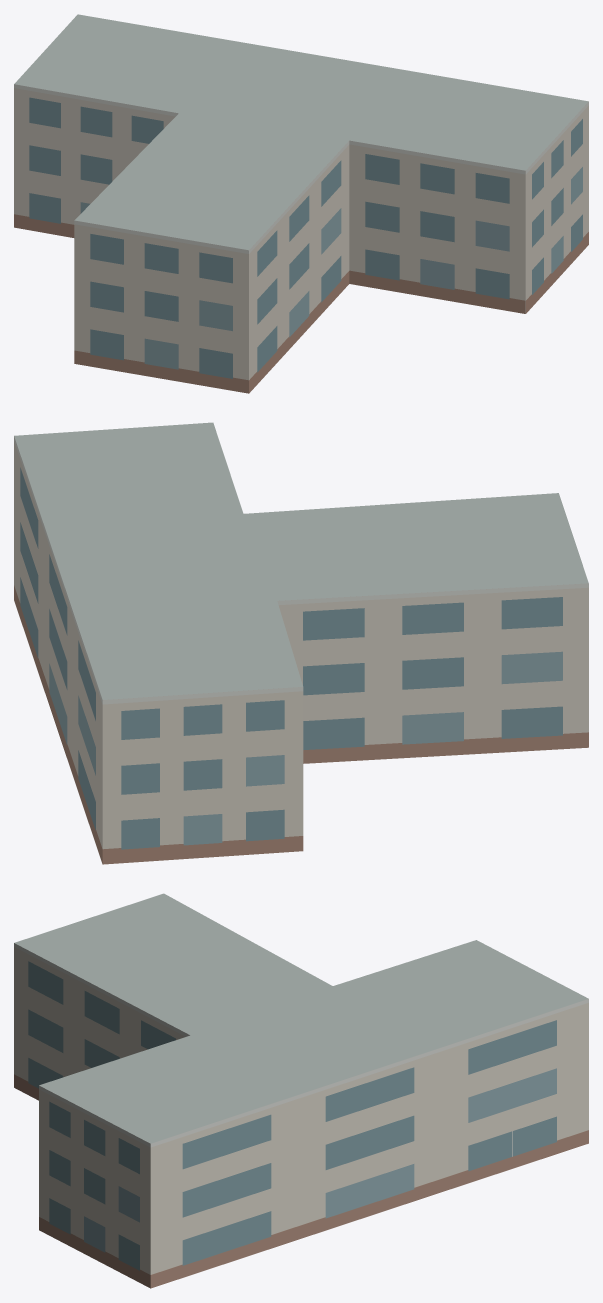
File: survey-upis-32739306.glb
3 renders of one model, top to bottom at view 1: azimuth 30°, elevation 25°; view 2: azimuth 150°, elevation 25°; view 3: azimuth 270°, elevation 25°, orthographic. The views are drawn at different scales.
Parts seen in each view (by area): view 1: survey-upis-32739306.tmp; view 2: survey-upis-32739306.tmp; view 3: survey-upis-32739306.tmp.
Part boxes in pixels (x1,y1,x2,y2): survey-upis-32739306.tmp: [14, 14, 588, 393]; survey-upis-32739306.tmp: [14, 422, 588, 864]; survey-upis-32739306.tmp: [14, 893, 588, 1288].
Size of the model in its own units: 33.94 by 9.15 by 32.94.
